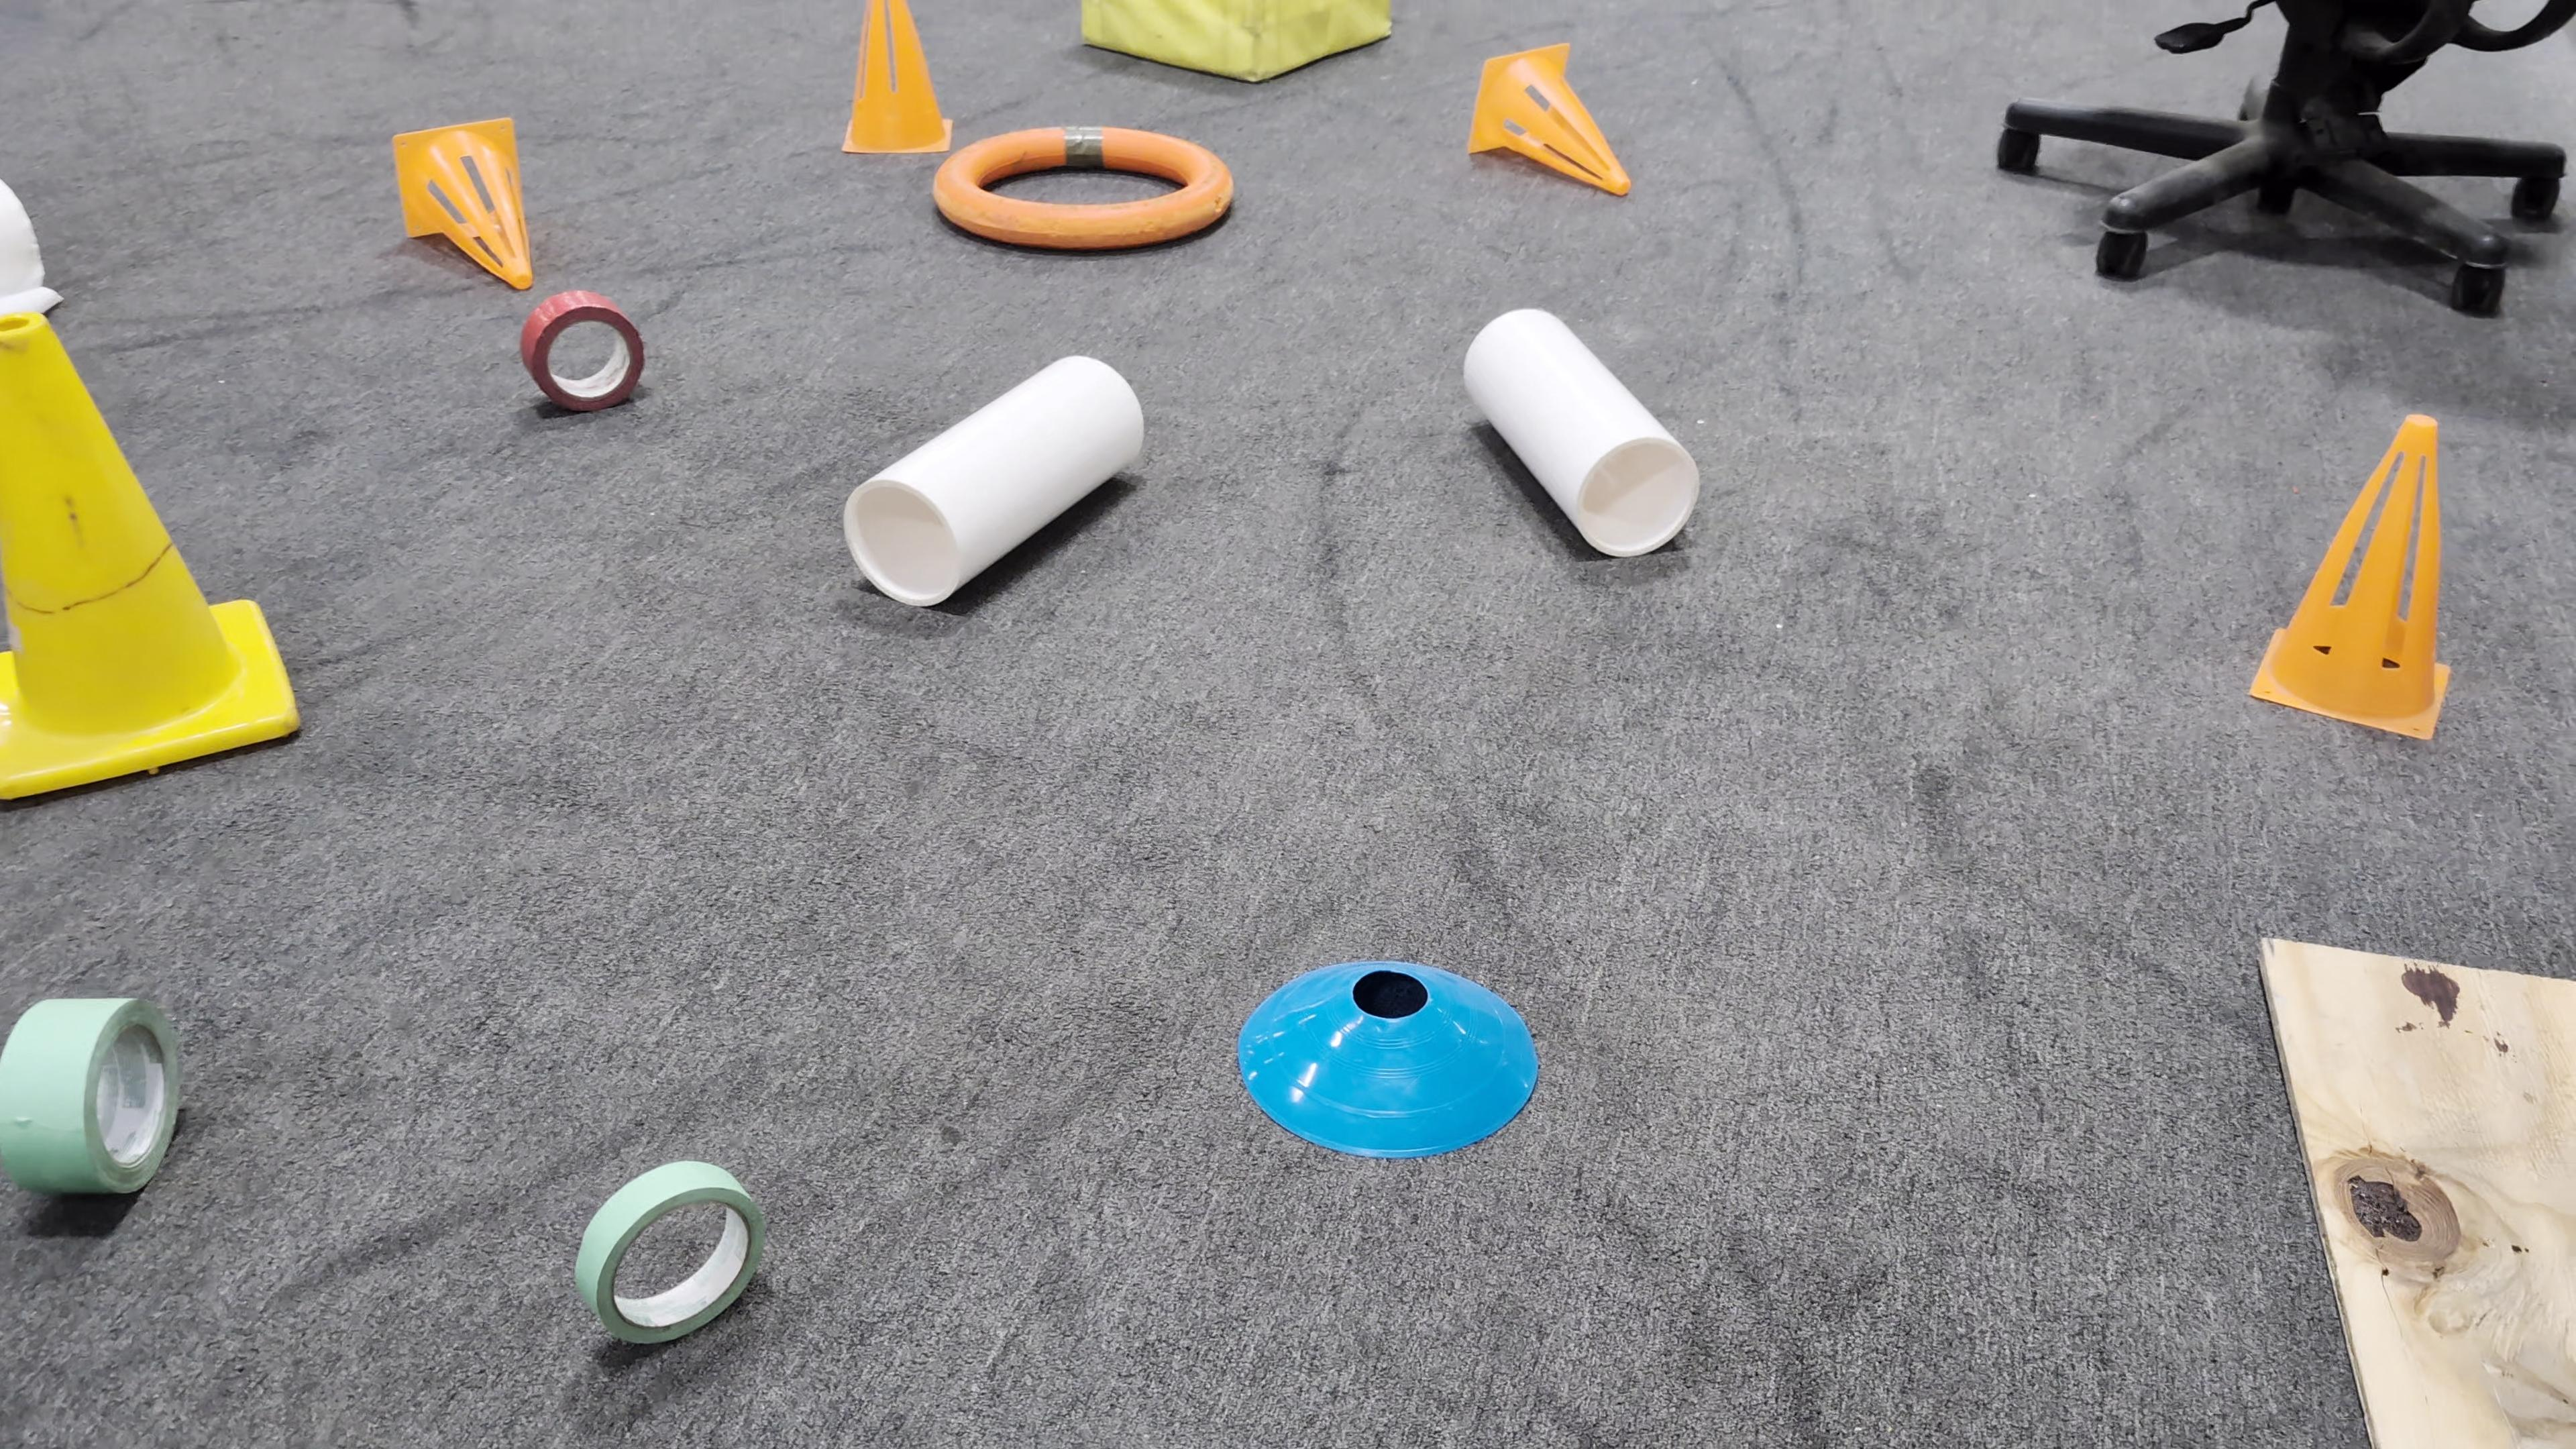coral: (844, 350, 1146, 607), (1463, 303, 1698, 556)
